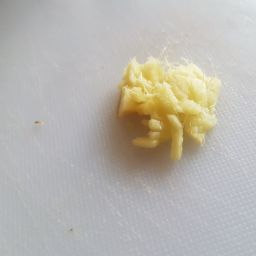Minced ginger: (109, 45, 228, 173)
